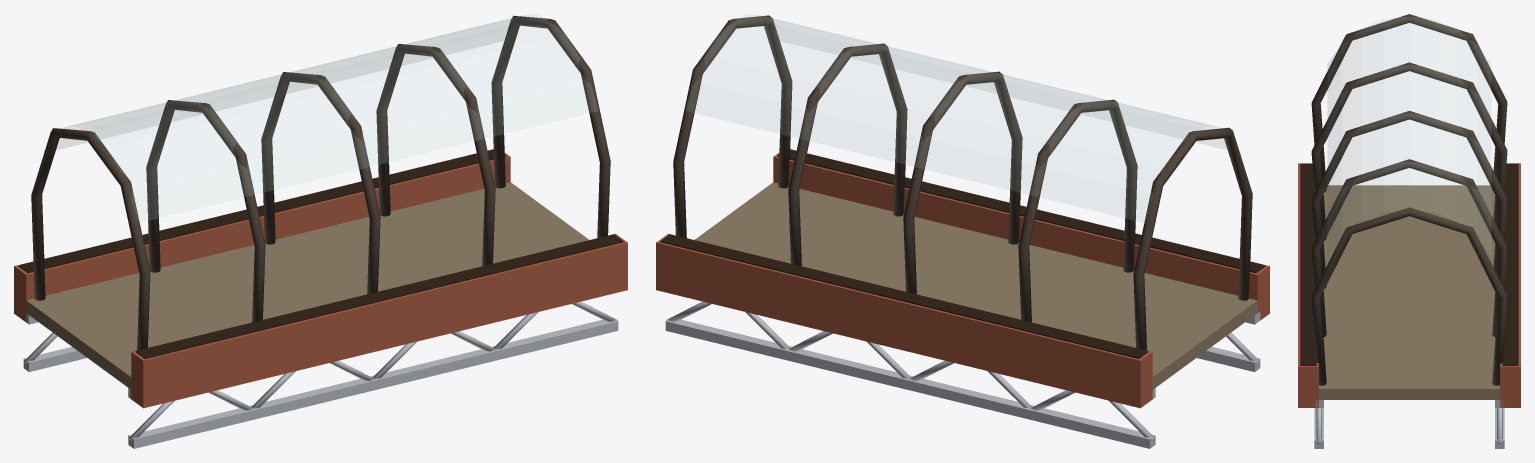
File: city_skybridge_8.glb
The picture shows the model from 3 angles, left to right: view 1: azimuth 30°, elevation 25°; view 2: azimuth 150°, elevation 25°; view 3: azimuth 270°, elevation 25°; orthographic projection. The views are drawn at different scales.
Visible parts, largest first — view 1: CitySkybridge8_Canopy, CitySkybridge8_Deck, CitySkybridge8_Lip-0.35, CitySkybridge8_Lip3.0, CitySkybridge8_Chord0.0, CitySkybridge8_LipSoil-0.35, CitySkybridge8_Rib3, CitySkybridge8_Rib1, CitySkybridge8_Rib4, CitySkybridge8_Rib2, CitySkybridge8_Rib0, CitySkybridge8_LipSoil3.0 (+1 smaller); view 2: CitySkybridge8_Canopy, CitySkybridge8_Deck, CitySkybridge8_Lip3.0, CitySkybridge8_Lip-0.35, CitySkybridge8_Chord3.0, CitySkybridge8_LipSoil3.0, CitySkybridge8_Rib1, CitySkybridge8_Rib0, CitySkybridge8_Rib3, CitySkybridge8_Rib2, CitySkybridge8_Rib4, CitySkybridge8_LipSoil-0.35 (+1 smaller); view 3: CitySkybridge8_Deck, CitySkybridge8_Canopy, CitySkybridge8_Rib4, CitySkybridge8_Rib3, CitySkybridge8_Rib0, CitySkybridge8_Rib2, CitySkybridge8_Rib1, CitySkybridge8_LipSoil-0.35, CitySkybridge8_LipSoil3.0, CitySkybridge8_Lip3.0, CitySkybridge8_Lip-0.35, CitySkybridge8_Chord0.0 (+1 smaller).
Boxes of the visible parts, bbox=[...] form: CitySkybridge8_Canopy: bbox=[57, 14, 597, 222]; CitySkybridge8_Deck: bbox=[26, 182, 588, 389]; CitySkybridge8_Lip-0.35: bbox=[131, 233, 627, 408]; CitySkybridge8_Lip3.0: bbox=[14, 150, 510, 322]; CitySkybridge8_Chord0.0: bbox=[128, 317, 618, 448]; CitySkybridge8_LipSoil-0.35: bbox=[135, 234, 623, 358]; CitySkybridge8_Rib3: bbox=[376, 44, 495, 266]; CitySkybridge8_Rib1: bbox=[146, 100, 265, 322]; CitySkybridge8_Rib4: bbox=[491, 15, 610, 237]; CitySkybridge8_Rib2: bbox=[261, 72, 380, 294]; CitySkybridge8_Rib0: bbox=[31, 128, 150, 350]; CitySkybridge8_LipSoil3.0: bbox=[18, 149, 506, 273]; CitySkybridge8_Canopy: bbox=[686, 14, 1226, 222]; CitySkybridge8_Deck: bbox=[695, 182, 1257, 389]; CitySkybridge8_Lip3.0: bbox=[656, 233, 1152, 408]; CitySkybridge8_Lip-0.35: bbox=[773, 150, 1269, 320]; CitySkybridge8_Chord3.0: bbox=[665, 319, 1155, 448]; CitySkybridge8_LipSoil3.0: bbox=[660, 234, 1148, 358]; CitySkybridge8_Rib1: bbox=[1018, 99, 1137, 322]; CitySkybridge8_Rib0: bbox=[1133, 127, 1252, 350]; CitySkybridge8_Rib3: bbox=[788, 43, 907, 266]; CitySkybridge8_Rib2: bbox=[903, 71, 1022, 294]; CitySkybridge8_Rib4: bbox=[673, 15, 792, 237]; CitySkybridge8_LipSoil-0.35: bbox=[777, 149, 1265, 273]; CitySkybridge8_Deck: bbox=[1319, 185, 1499, 399]; CitySkybridge8_Canopy: bbox=[1328, 17, 1490, 254]; CitySkybridge8_Rib4: bbox=[1311, 207, 1507, 385]; CitySkybridge8_Rib3: bbox=[1311, 159, 1507, 336]; CitySkybridge8_Rib0: bbox=[1311, 14, 1507, 191]; CitySkybridge8_Rib2: bbox=[1311, 111, 1507, 288]; CitySkybridge8_Rib1: bbox=[1311, 62, 1507, 239]; CitySkybridge8_LipSoil-0.35: bbox=[1300, 163, 1316, 365]; CitySkybridge8_LipSoil3.0: bbox=[1502, 163, 1518, 365]; CitySkybridge8_Lip3.0: bbox=[1500, 163, 1520, 407]; CitySkybridge8_Lip-0.35: bbox=[1298, 163, 1318, 407]; CitySkybridge8_Chord0.0: bbox=[1314, 408, 1323, 448].
Bounding box in the file's own units: 8.05 × 4.33 × 3.7.
